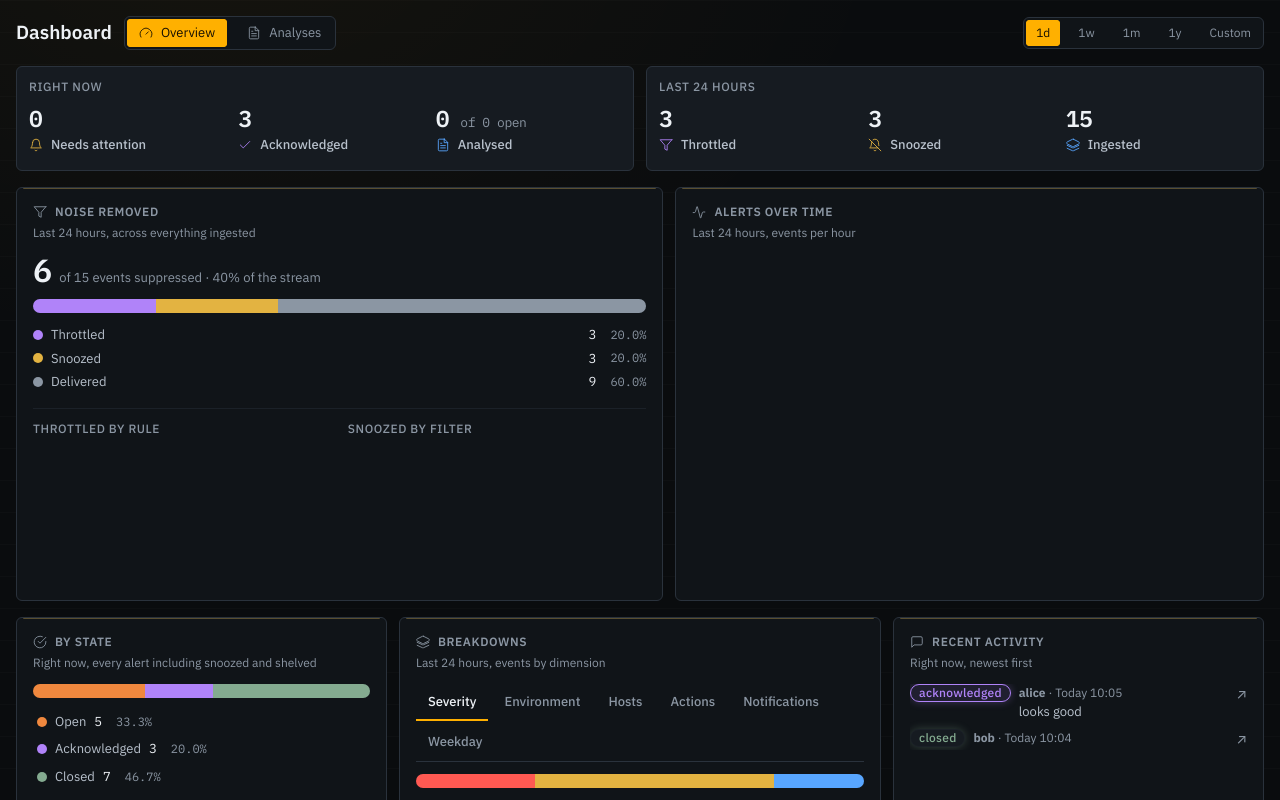
Scenario: DashboardPage › renders the Notifications empty state when the stats payload omits by_notification
Expected: the heading "Noise removed" is shown, [33,204,159,219]
Click the tab "Notifications": coordinates (781, 703) [731,684,831,721]
(page scrolled)
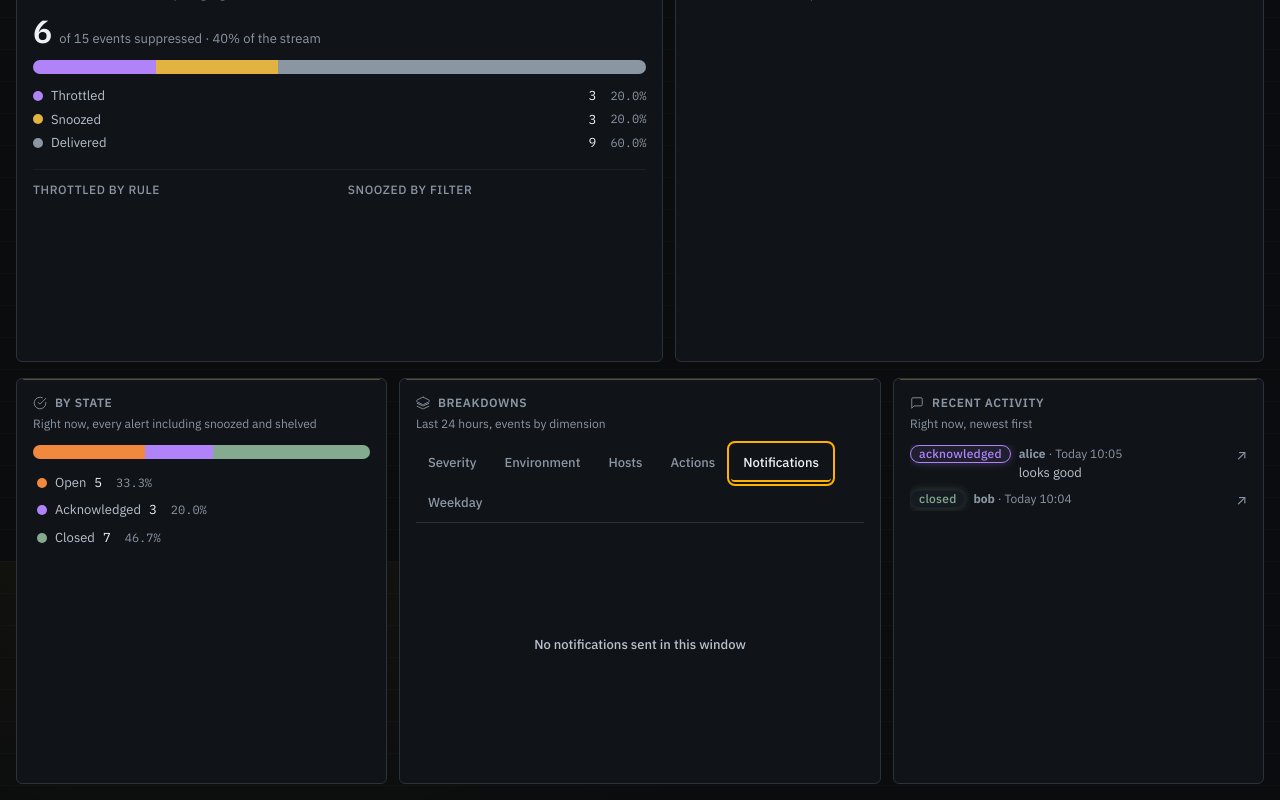
Now the text "No notifications sent in this window" is shown, box [534,635,746,655]
